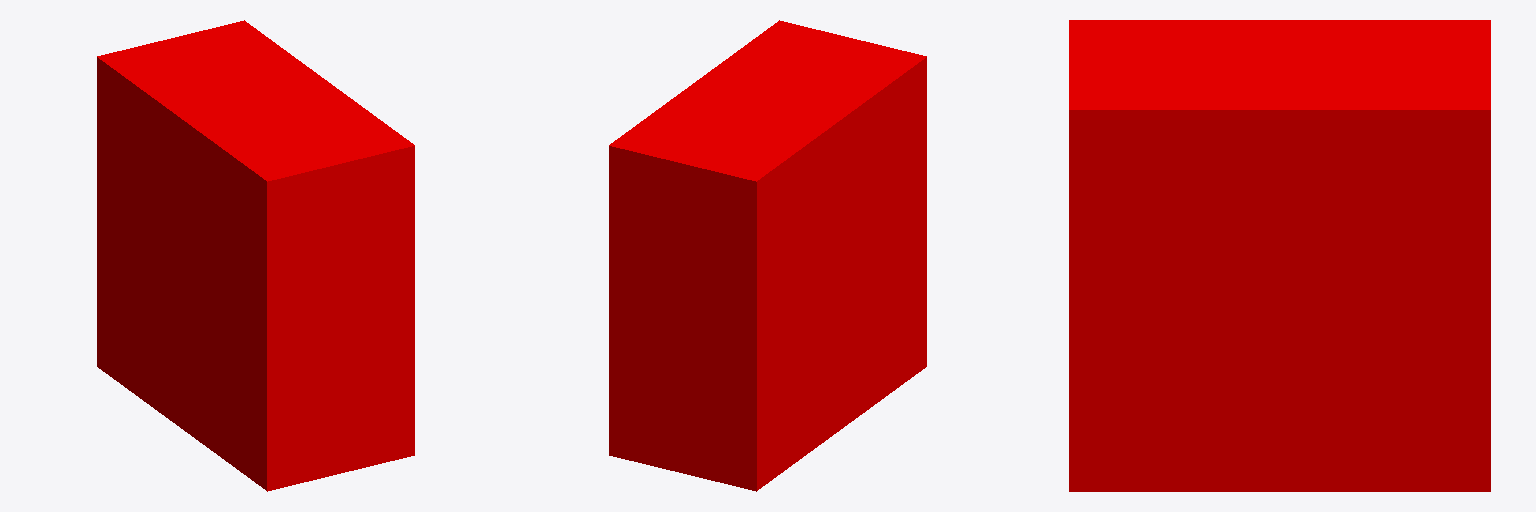
The robot description file, URDF, robot "brick_silhouette":
<robot name="brick_silhouette">
    <!-- control -->
    <link name="box1">
        <inertial>
            <mass value="0.2"/>
            <inertia ixx="0" ixy="0" ixz="0" iyy="0" iyz="0" izz="0"/>
        </inertial>
        <visual>
            <origin xyz="0 0 0" rpy="0 0 0"/>
            <geometry>
                <box size="0.06 0.12 0.12"/>
            </geometry>
            <material name="Red">
                <color rgba="1.0 0.0 0.0 0.5"/>
            </material>
        </visual>
    </link>
</robot>

--- Render facts (derived) ---
The picture shows the robot from 3 angles, left to right: view 1: azimuth 30°, elevation 25°; view 2: azimuth 150°, elevation 25°; view 3: azimuth 270°, elevation 25°; orthographic projection.
Model brick_silhouette with 1 links and 0 joints (none), rooted at box1, posed every joint at zero.
Visible links, largest first — view 1: box1; view 2: box1; view 3: box1.
Boxes of the visible links, x1,y1,x2,y2 form: box1: [97, 20, 414, 491]; box1: [609, 20, 926, 491]; box1: [1069, 20, 1490, 491].
Bounding box of the posed robot: 0.06 × 0.12 × 0.12 m (x, y, z).
Geometry: primitives only (box / cylinder / sphere), no mesh files.